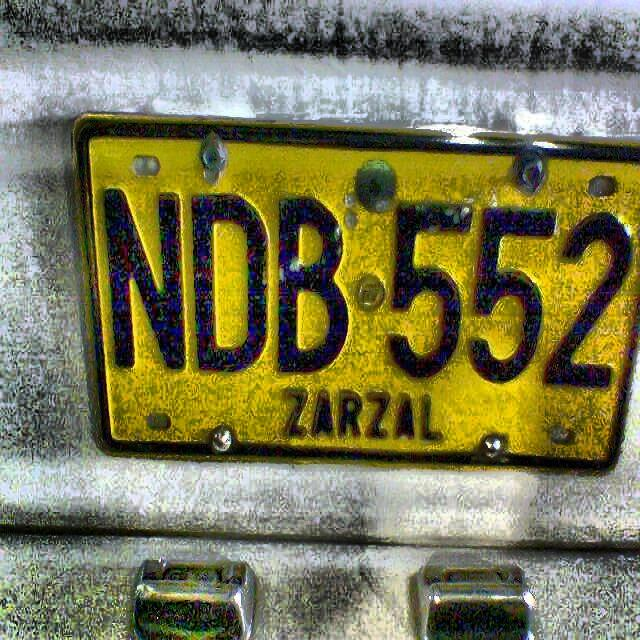plate: (71, 113, 639, 477)
